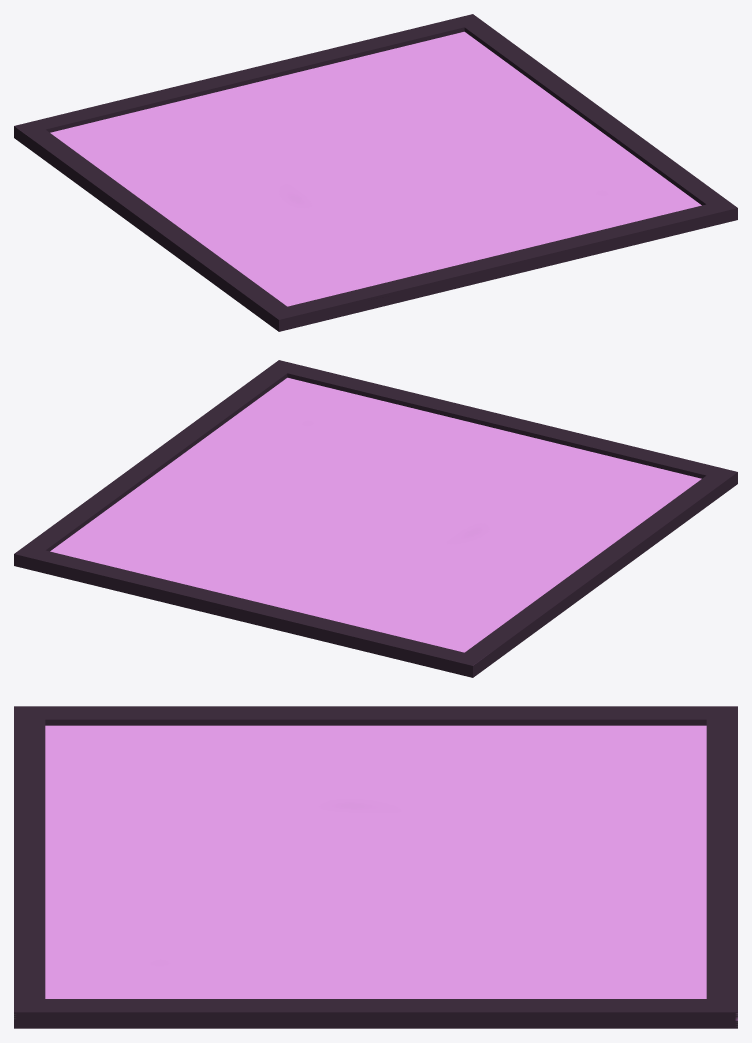
Rendered from tile.glb.
3 views of the same model, one above another, from view 1: azimuth 30°, elevation 25°; view 2: azimuth 150°, elevation 25°; view 3: azimuth 270°, elevation 25° (orthographic). The views are drawn at different scales.
Visible parts, largest first — view 1: Cube; view 2: Cube; view 3: Cube.
Part boxes in pixels (x1,y1,x2,y2): Cube: (14, 14, 737, 331); Cube: (14, 360, 737, 677); Cube: (14, 706, 737, 1028).
Size of the model in its own units: 2 by 0.05 by 2.
1 material, 1 textured.
